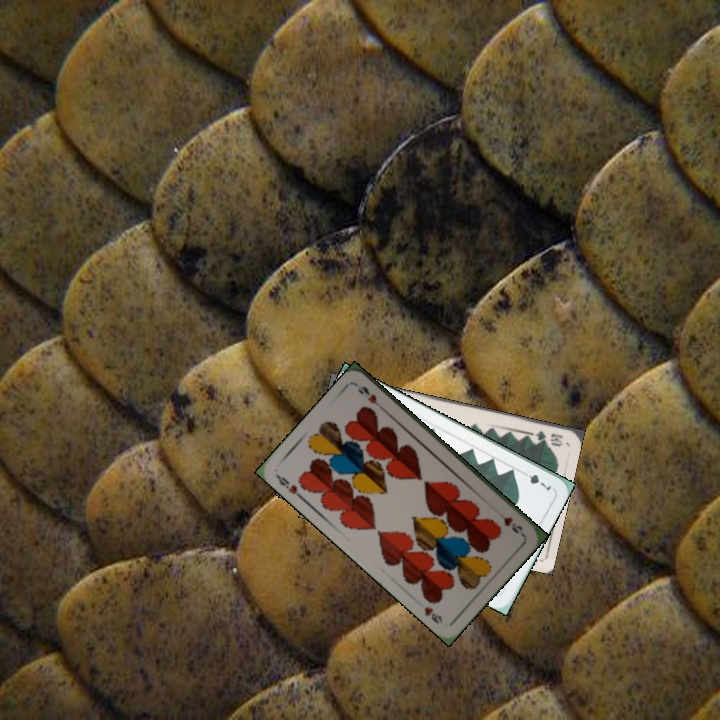G10: (525, 427, 565, 448)
G7: (517, 467, 553, 495)
H9: (272, 471, 306, 502), (499, 513, 526, 539)
